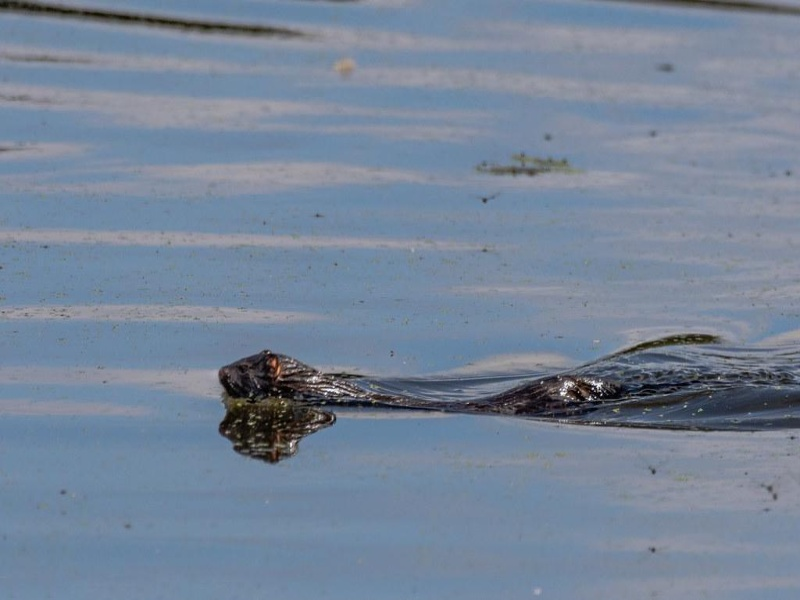minkish: (216, 348, 666, 405)
